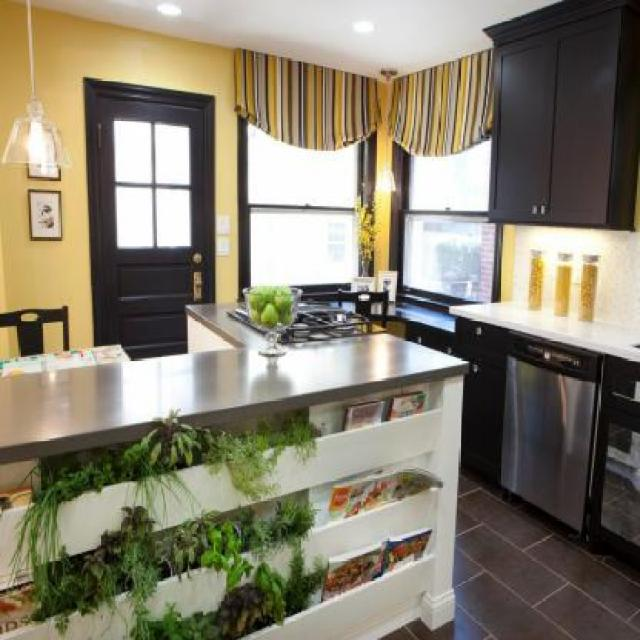Floor: (378, 474, 640, 639)
